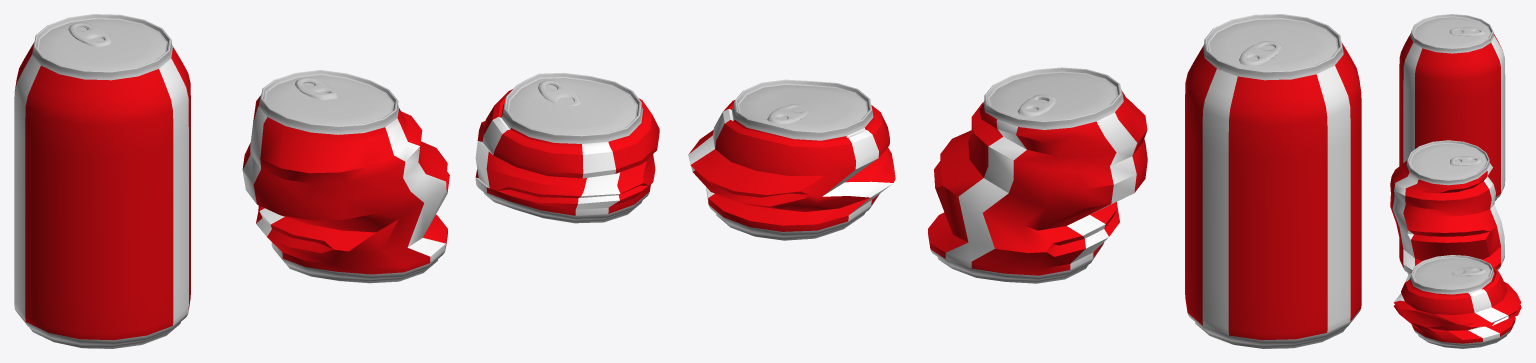
The model's file is soda_can.glb.
The picture shows the model from 3 angles, left to right: view 1: azimuth 30°, elevation 25°; view 2: azimuth 150°, elevation 25°; view 3: azimuth 270°, elevation 25°; orthographic projection. The views are drawn at different scales.
Visible parts, largest first — view 1: SodaCan_0, SodaCan_Crushed1_1, SodaCan_Crushed2_2; view 2: SodaCan_0, SodaCan_Crushed1_1, SodaCan_Crushed2_2; view 3: SodaCan_0, SodaCan_Crushed1_1, SodaCan_Crushed2_2.
Boxes of the visible parts, box(x1,y1,x2,y2) form: SodaCan_0: box(14, 14, 190, 348); SodaCan_Crushed1_1: box(242, 70, 449, 283); SodaCan_Crushed2_2: box(475, 72, 659, 223); SodaCan_0: box(1185, 14, 1361, 348); SodaCan_Crushed1_1: box(928, 67, 1147, 283); SodaCan_Crushed2_2: box(688, 79, 895, 240); SodaCan_0: box(1399, 14, 1505, 200); SodaCan_Crushed1_1: box(1390, 140, 1504, 274); SodaCan_Crushed2_2: box(1393, 255, 1521, 348).
Bounding box in the file's own units: 7.42 × 3.07 × 2.24.
1 material, 1 textured.
